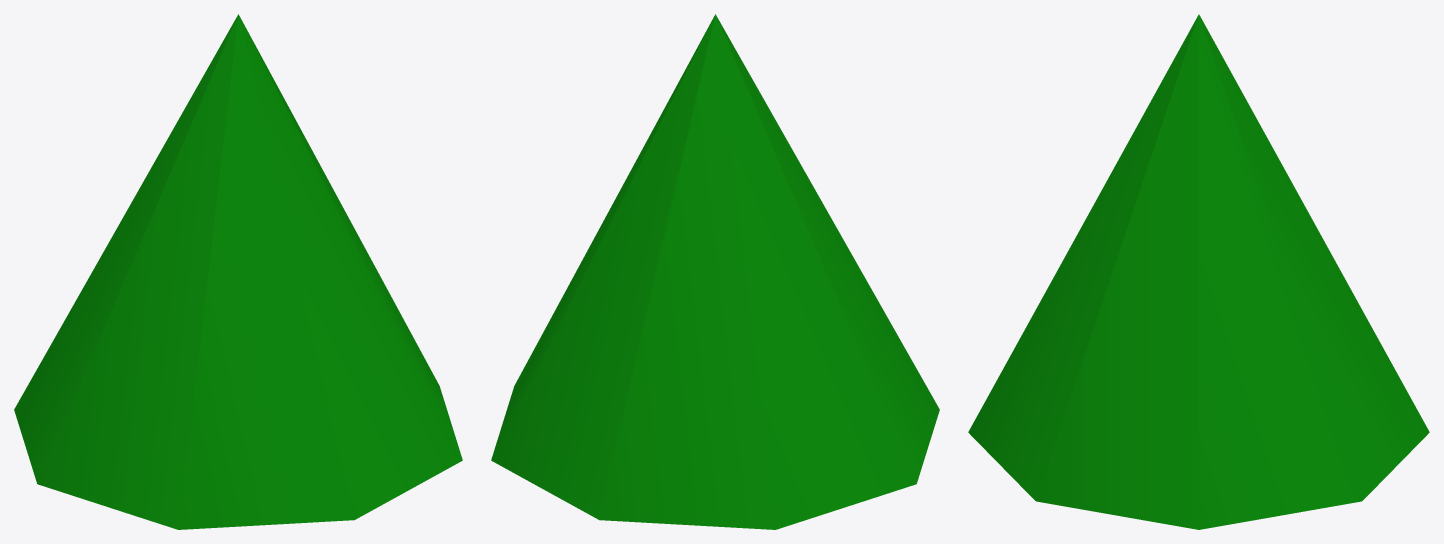
The model's file is christmas_tree_(11).glb.
3 renders of one model, left to right at view 1: azimuth 30°, elevation 25°; view 2: azimuth 150°, elevation 25°; view 3: azimuth 270°, elevation 25°, orthographic.
Bounding box in the file's own units: 10 × 10 × 10.
